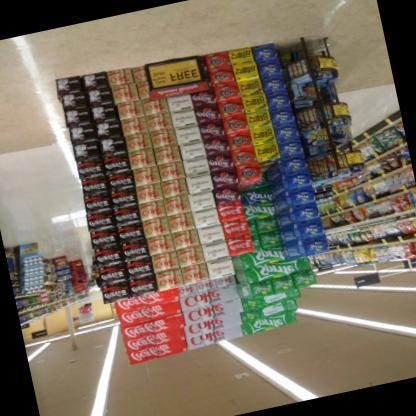empty_space: (254, 157, 288, 209), (237, 183, 264, 231)
